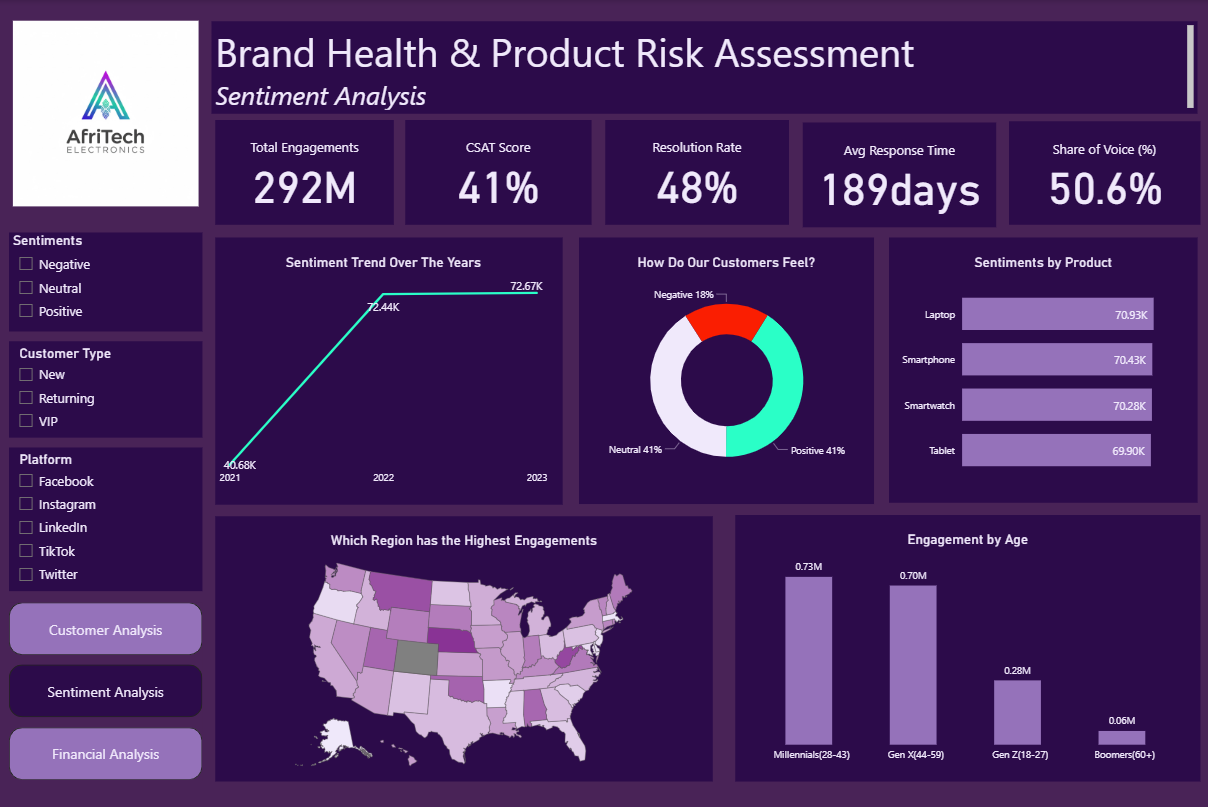

The dashboard page shown, as its layout file describes it:
{"tool":"powerbi","page":{"name":"Sentiment Analysis","canvas":[1500,1000],"ordinal":1},"visuals":[{"type":"cardVisual","fields":{"Data":["New measures.Total Engagements"]},"box":[267.4,148.4,221,129.8],"z":0},{"type":"cardVisual","fields":{"Data":["New measures.CSAT Score"]},"box":[502.3,148.4,230.3,129.8],"z":1000},{"type":"cardVisual","fields":{"Data":["New measures.Avg Response Time"]},"box":[993.8,151.5,239.6,129.8],"z":2000},{"type":"clusteredBarChart","title":"Sentiments by Product","fields":{"Category":["public transactiondata.productpurchased"],"Y":["CountNonNull(public socialmedia.sentiment)"]},"box":[1100.5,293.7,381.8,327.7],"z":3000},{"type":"donutChart","title":"How Do Our Customers Feel?","fields":{"Y":["New measures.Total Engagements"],"Category":["public socialmedia.sentiment"]},"box":[717.2,293.7,364.8,329.2],"z":4000},{"type":"clusteredColumnChart","title":"Engagement by Age","fields":{"Y":["New measures.Total Engagements"],"Category":["public customerdata.Age Groups"]},"box":[910.4,636.8,575,329.2],"z":5000},{"type":"cardVisual","fields":{"Data":["New measures.Resolution Rate"]},"box":[749.6,148.4,227.2,129.8],"z":6000},{"type":"cardVisual","fields":{"Data":["New measures.Share of Voice (%)"]},"box":[1248.8,149.9,236.5,128.3],"z":7000},{"type":"slicer","title":"Sentiments","fields":{"Values":["public socialmedia.sentiment"]},"box":[12.4,287.5,239.6,122.1],"z":8000},{"type":"image","box":[12.4,0,239.6,281.3],"z":9000},{"type":"textbox","box":[262.8,26.3,1219.5,114.4],"z":10000},{"type":"pageNavigator","box":[12.4,745,239.6,221],"z":11000},{"type":"slicer","fields":{"Values":["public customerdata.customertype"]},"box":[12.4,421.9,239.6,119],"z":12000},{"type":"shapeMap","title":"Which Region has the Highest Engagements","fields":{"Category":["public customerdata.region"],"Value":["New measures.Total Engagements"]},"box":[267.4,638.3,615.1,327.7],"z":13000},{"type":"slicer","fields":{"Values":["public socialmedia.platform"]},"box":[12.4,553.3,239.6,177.7],"z":14000},{"type":"lineChart","title":"Sentiment Trend Over The Years","fields":{"Category":["public transactiondata.transactionyear"],"Y":["CountNonNull(public socialmedia.sentiment)"]},"box":[267.4,293.7,429.7,330.8],"z":15000}]}

Visuals, with their boxes in screenshot pixels (x1, y1, x2, y2), scaled from the page's 1500x1000 canvas onto the 1208x807 screenshot:
cardVisual - New measures.Total Engagements: select_region(215, 120, 393, 225)
cardVisual - New measures.CSAT Score: select_region(405, 120, 590, 225)
cardVisual - New measures.Avg Response Time: select_region(800, 122, 993, 227)
"Sentiments by Product" clusteredBarChart: select_region(886, 237, 1194, 501)
"How Do Our Customers Feel?" donutChart: select_region(578, 237, 871, 503)
"Engagement by Age" clusteredColumnChart: select_region(733, 514, 1196, 780)
cardVisual - New measures.Resolution Rate: select_region(604, 120, 787, 225)
cardVisual - New measures.Share of Voice (%): select_region(1006, 121, 1196, 225)
"Sentiments" slicer: select_region(10, 232, 203, 331)
image: select_region(10, 0, 203, 227)
textbox: select_region(212, 21, 1194, 114)
pageNavigator: select_region(10, 601, 203, 780)
slicer - public customerdata.customertype: select_region(10, 340, 203, 437)
"Which Region has the Highest Engagements" shapeMap: select_region(215, 515, 711, 780)
slicer - public socialmedia.platform: select_region(10, 447, 203, 590)
"Sentiment Trend Over The Years" lineChart: select_region(215, 237, 561, 504)
